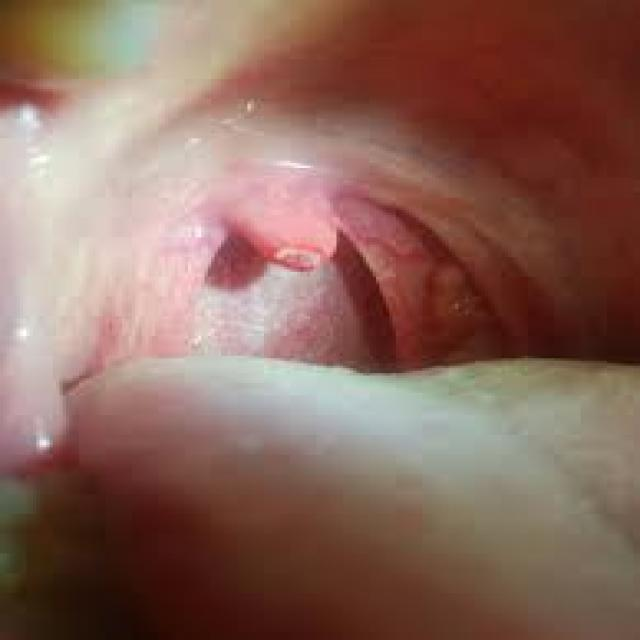processing_area: (18, 112, 637, 601)
ulcer-detection: (236, 186, 360, 277)
